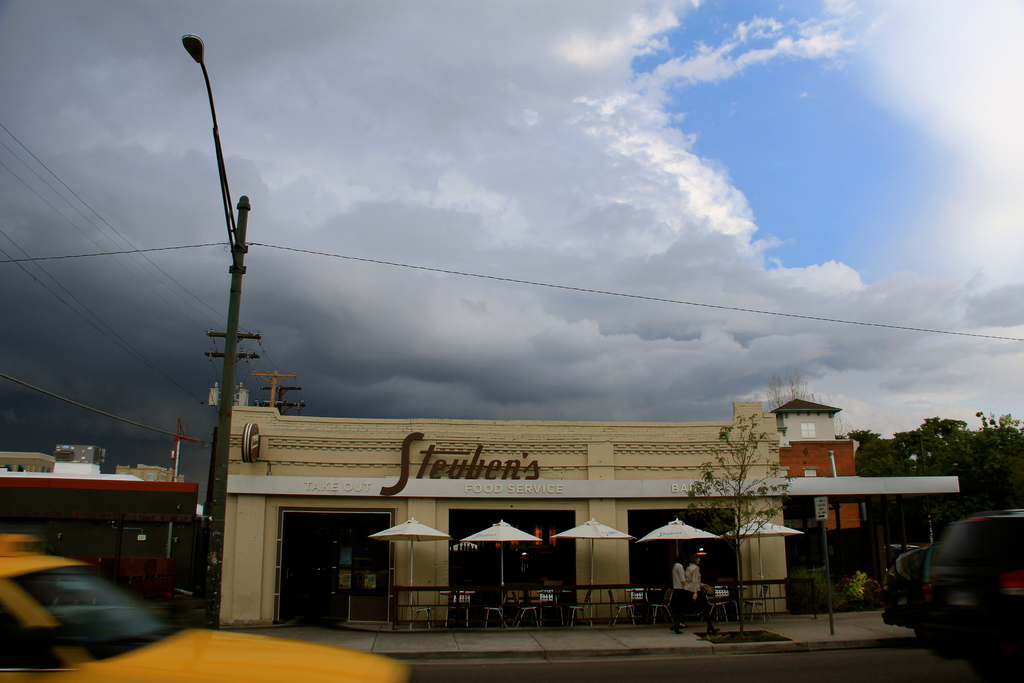Car: (0, 534, 414, 682), (927, 504, 1023, 661), (882, 545, 942, 645), (885, 543, 918, 574)
